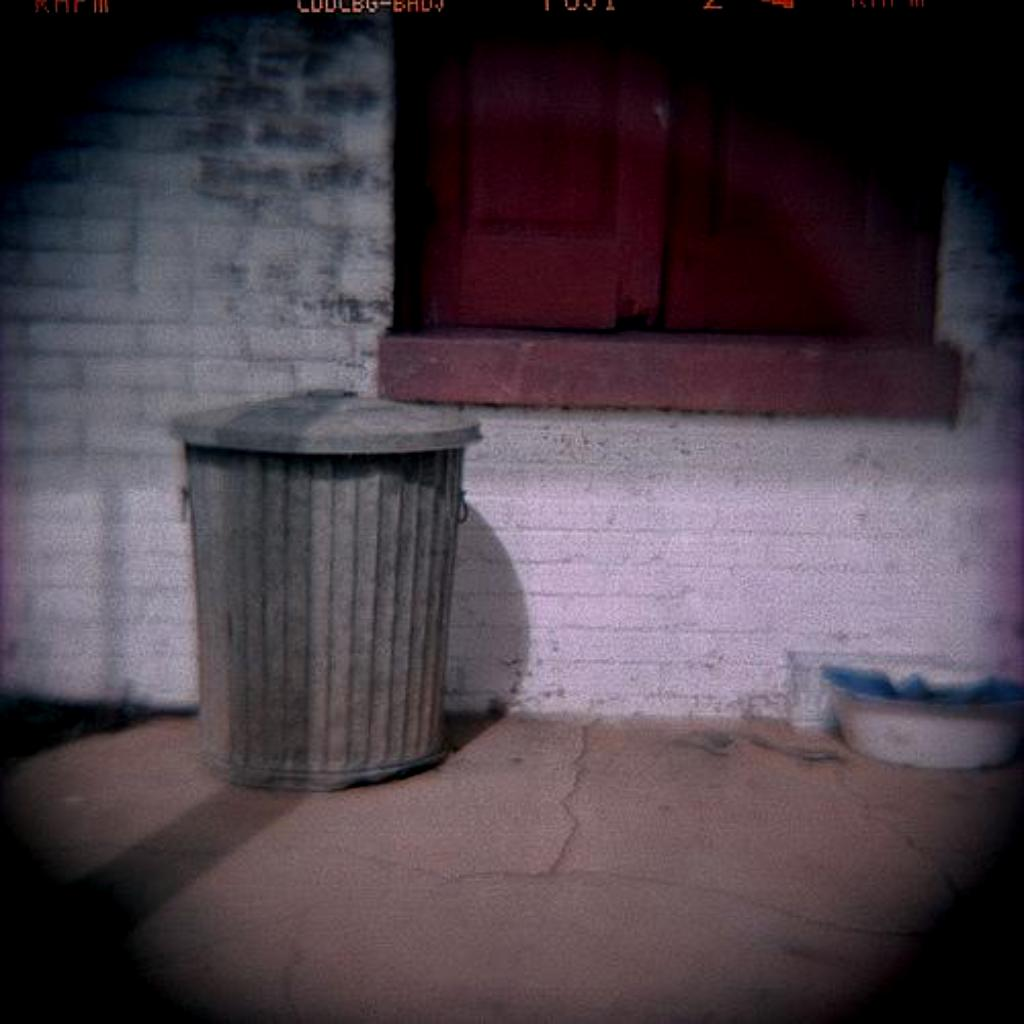dustbin: (155, 340, 483, 803)
